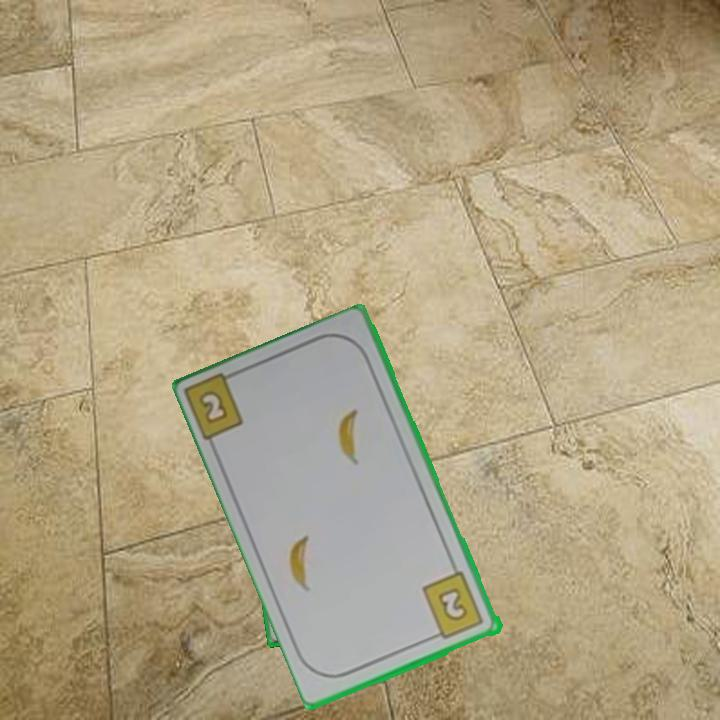2b: (419, 568, 487, 642), (195, 387, 232, 427)
